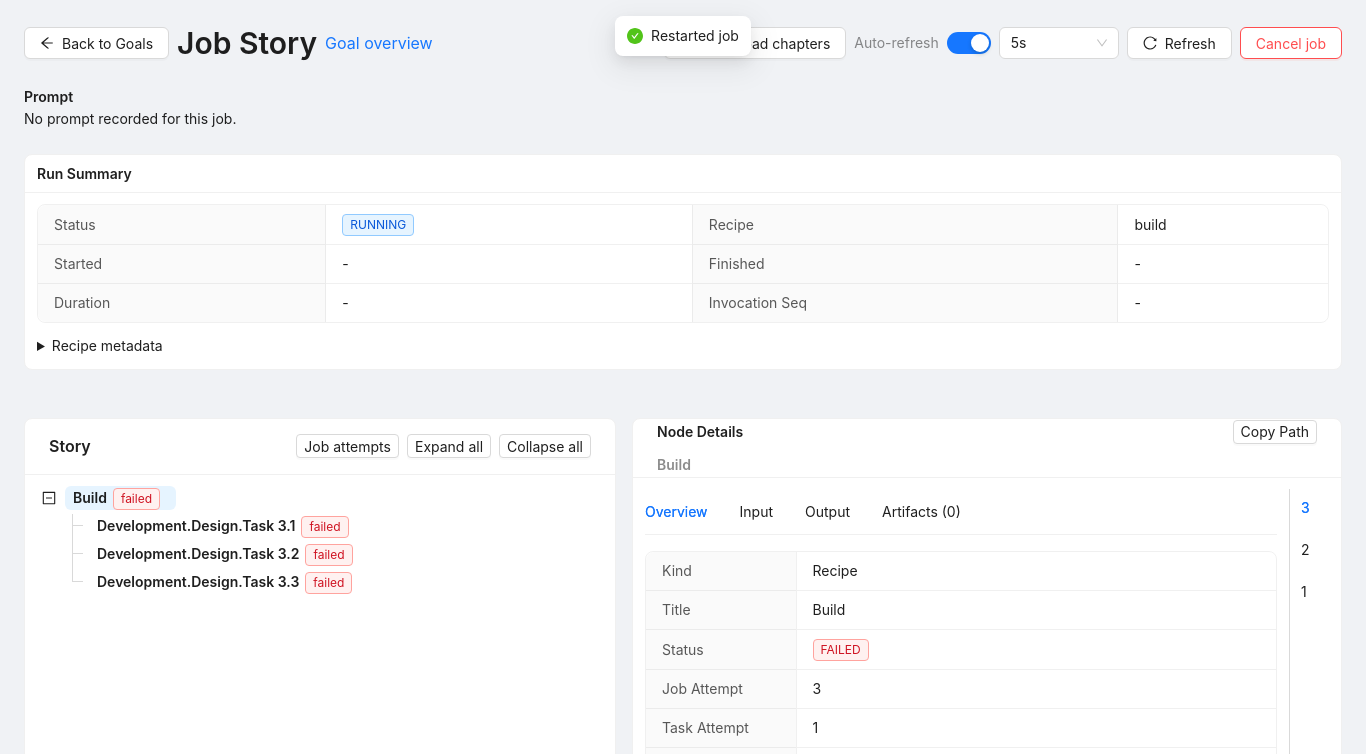
Test: chapter download action › preserves the story and retries after failure regardless of historical tree selection
The image size is (1366, 754).
Expected: the text "Development.Design.Task 3.2" is shown, [97,545,300,562]
Click the switch named "Auto-refresh".
click(969, 43)  # box [947,32,991,54]
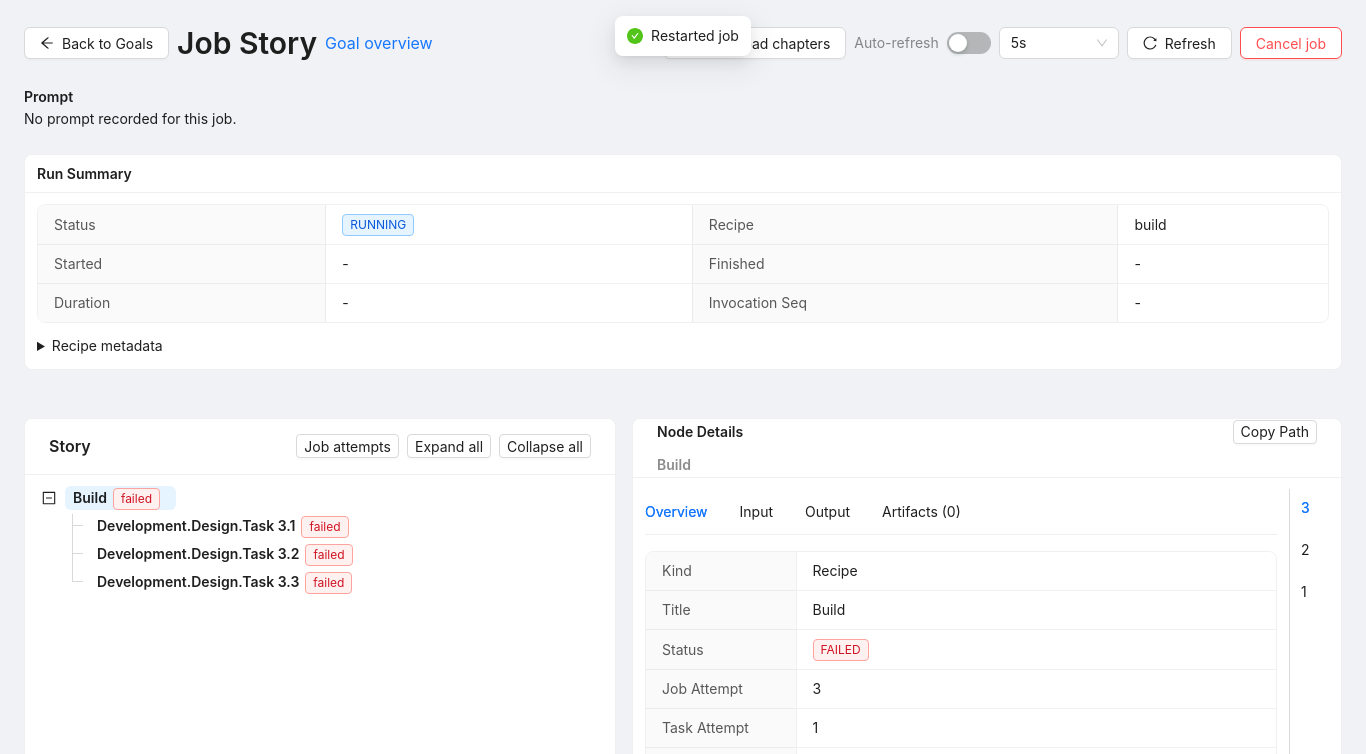
Click the tab named "Job attempt 1".
click(1304, 592)  # box [1301,581,1307,603]
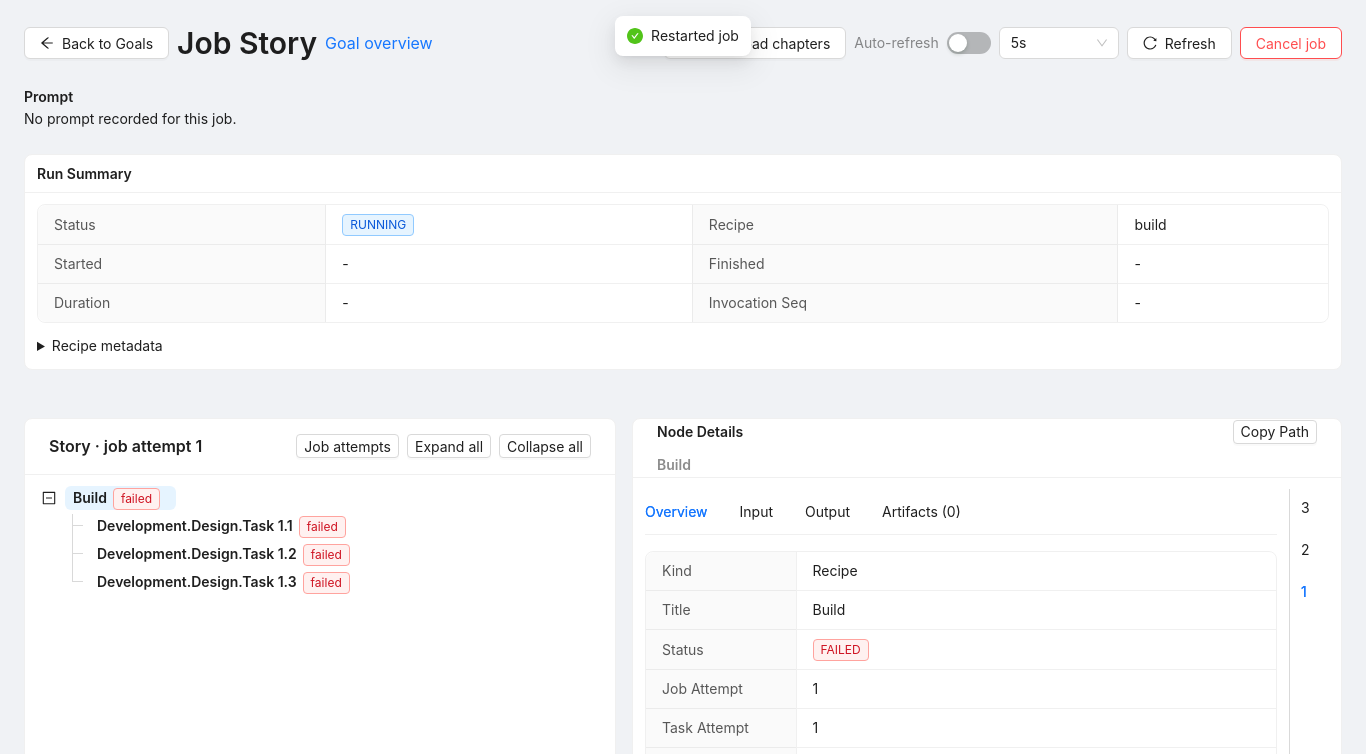
Click the text "Development.Design.Task 1.2".
click(197, 554)  # box [97,545,297,562]
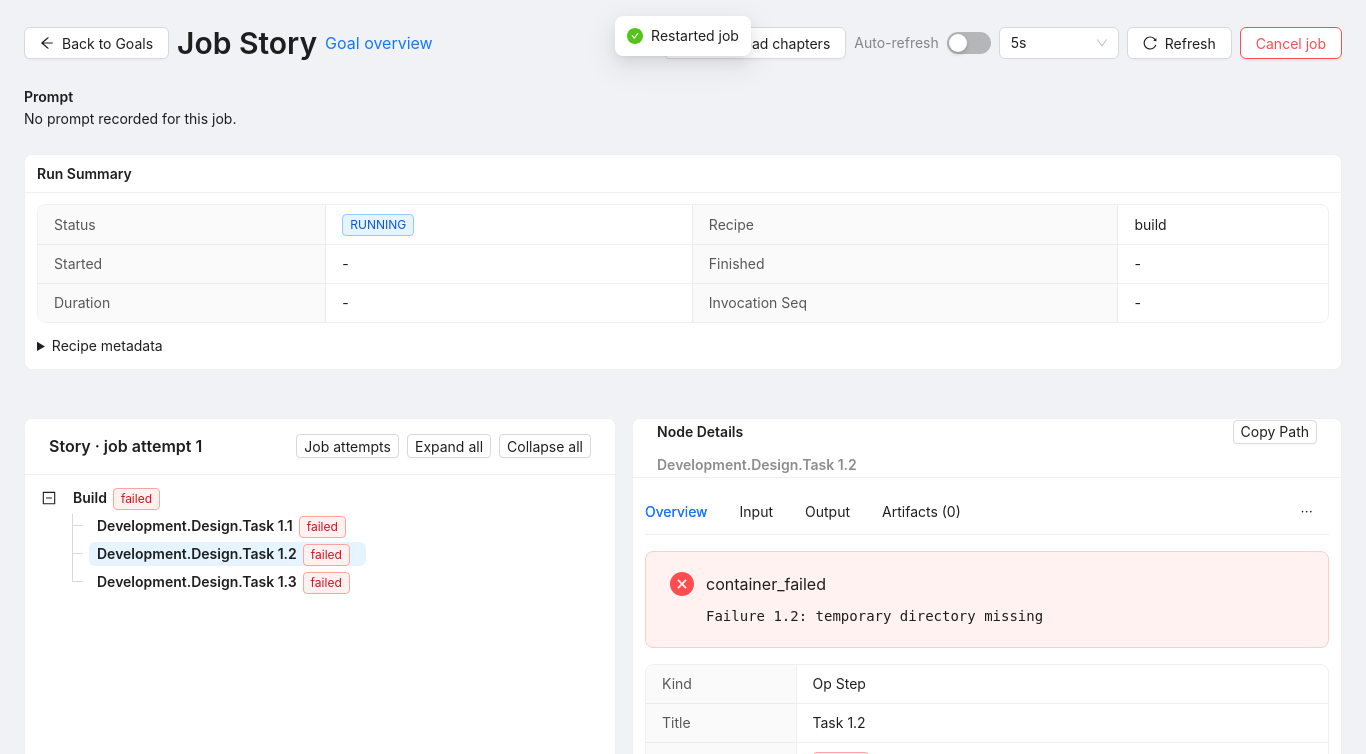
Click the button "Download chapters".
click(755, 43)  # box [664,27,846,59]
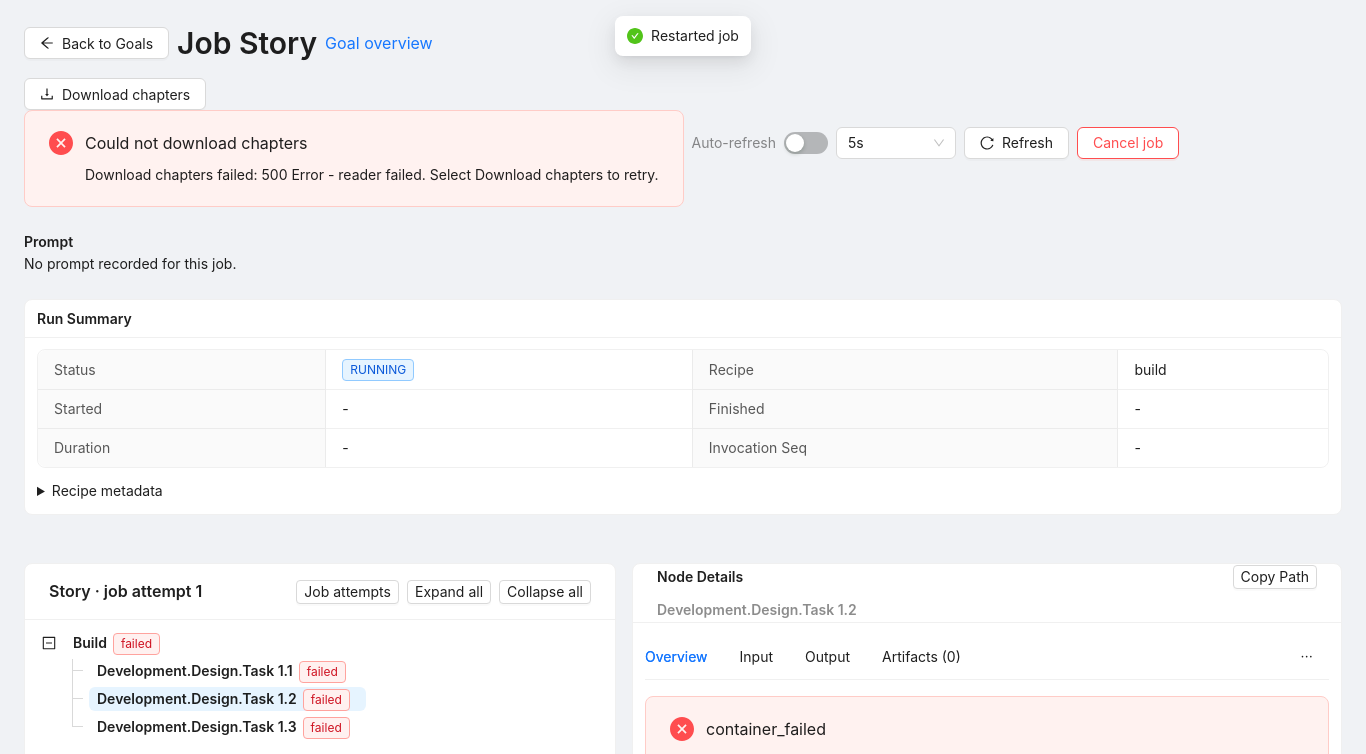
Expected: the 2nd text "Development.Design.Task 1.2" is shown, [97,690,297,707]
Expected: the text "Could not download chapters" is shown, [85,133,308,153]
Click the button "Collapse all".
click(545, 592)  # box [499,580,591,604]
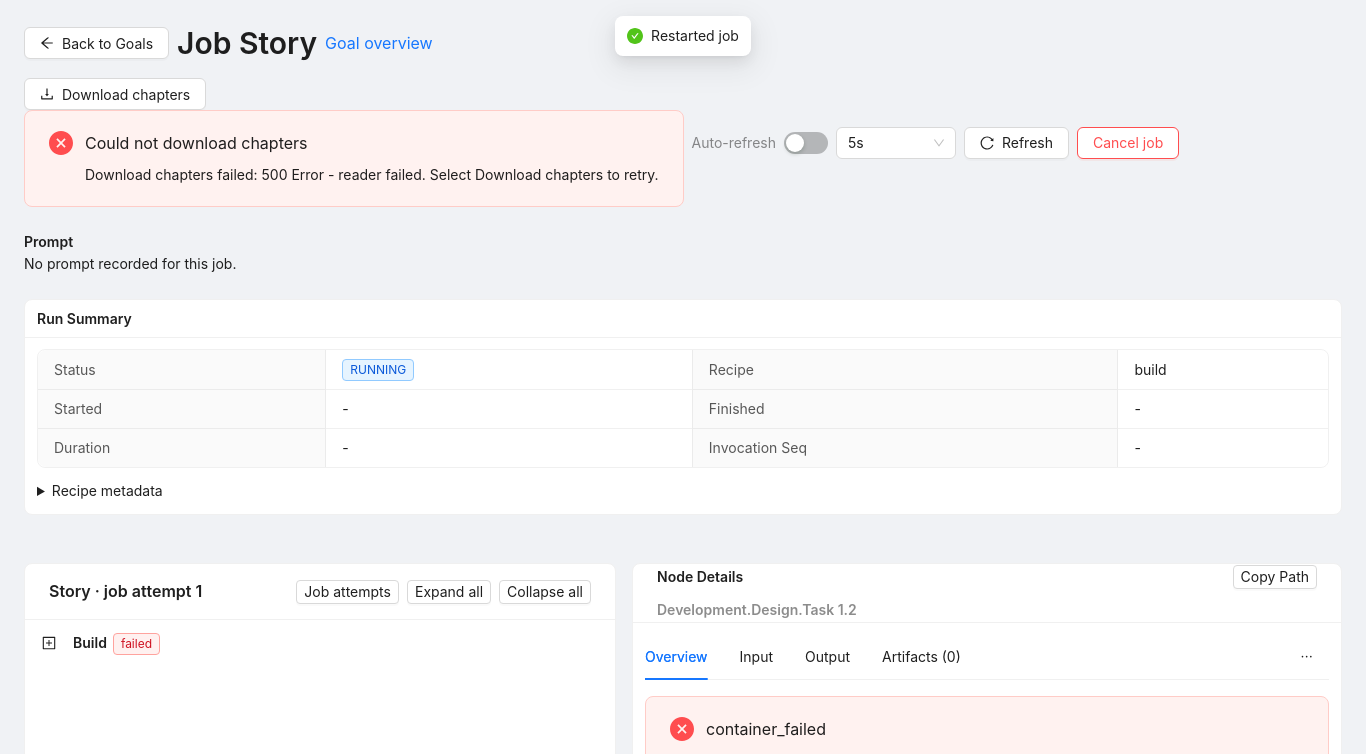
Click the button "Download chapters".
click(115, 94)  # box [24,78,206,110]
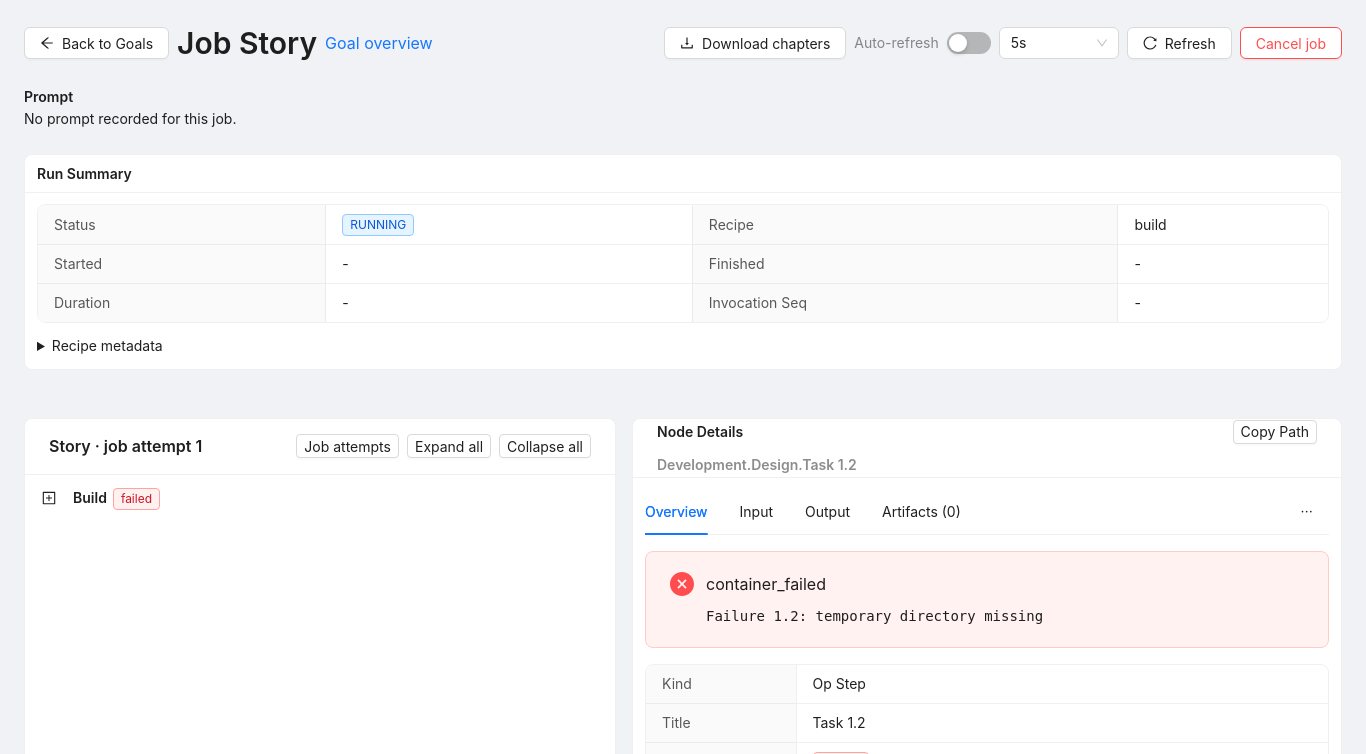
Expected: the text "Could not download chapters" is gone
